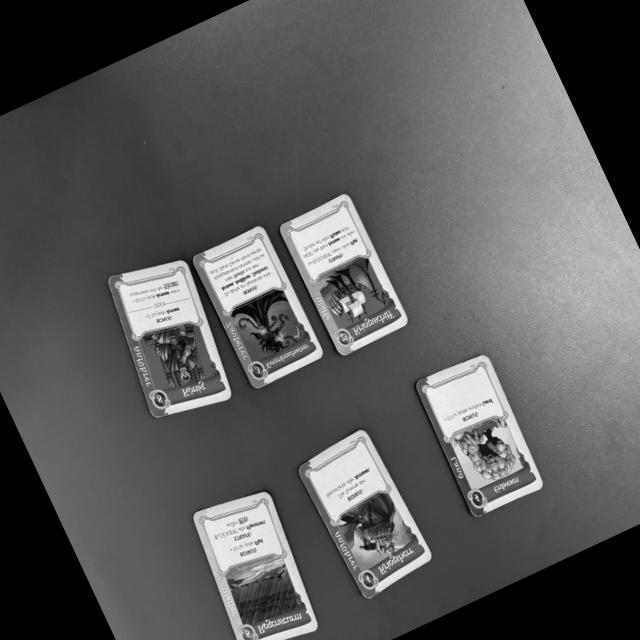Earth Elemental: (411, 350, 547, 519)
King: (105, 259, 234, 417)
Necromancer: (190, 223, 327, 395)
Rainstorm: (188, 490, 320, 640)
Warlord: (292, 424, 434, 604)
Warship: (276, 184, 414, 363)
